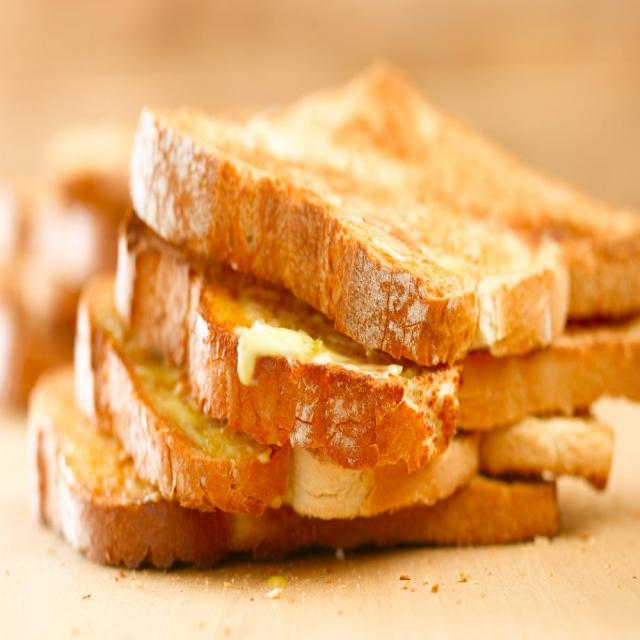Bread: (131, 64, 640, 366), (116, 222, 459, 470), (75, 281, 290, 513)
